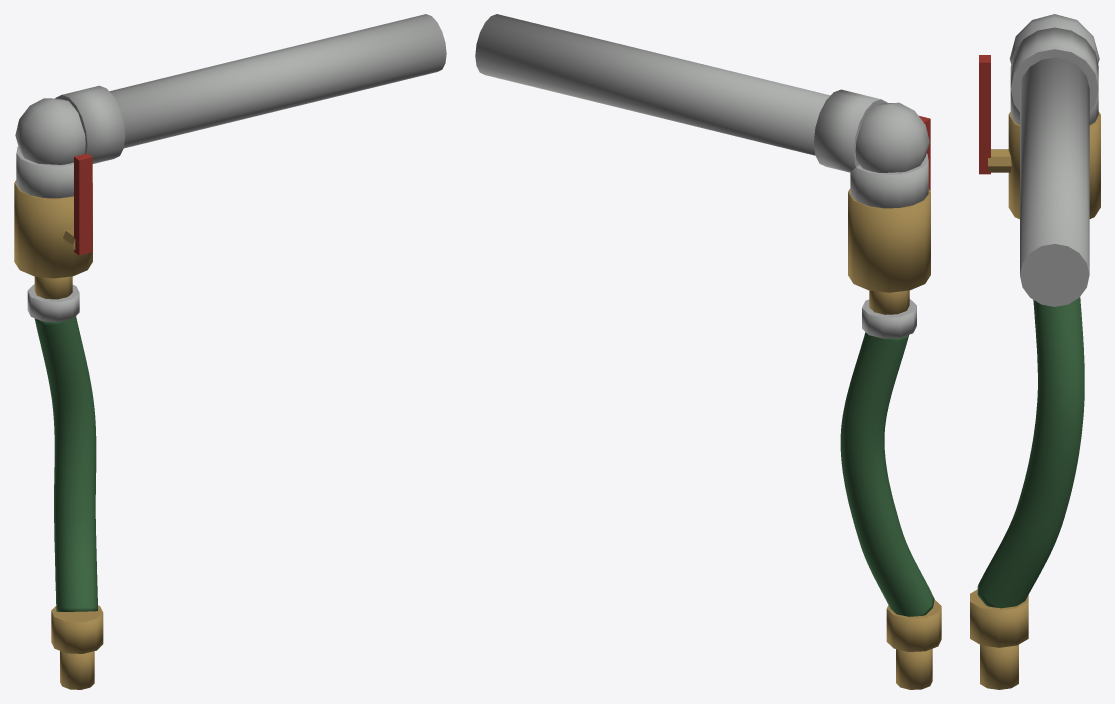
File: barrel_pump_bend1.obj
3 views of the same model, side by side, from view 1: azimuth 30°, elevation 25°; view 2: azimuth 150°, elevation 25°; view 3: azimuth 270°, elevation 25° (orthographic). The views are drawn at different scales.
Parts seen in each view (by area): view 1: pipe2, hose, valve_body, elbow_hub, elbow_socket2, spigot_nut, elbow_socket1, valve_lever, hose_collar, spigot, hose_barb; view 2: pipe2, hose, valve_body, elbow_hub, elbow_socket2, elbow_socket1, spigot_nut, hose_collar, spigot, hose_barb; view 3: pipe2, hose, elbow_socket2, spigot_nut, valve_body, spigot, valve_lever, elbow_hub, valve_stem, elbow_socket1.
Boxes of the visible parts, box(x1,y1,x2,y2) form: pipe2: box(109, 14, 446, 148); hose: box(34, 316, 97, 611); valve_body: box(14, 180, 92, 278); elbow_hub: box(15, 98, 85, 164); elbow_socket2: box(55, 85, 125, 163); spigot_nut: box(51, 605, 103, 653); elbow_socket1: box(16, 146, 73, 198); valve_lever: box(74, 153, 92, 255); hose_collar: box(27, 284, 79, 321); spigot: box(60, 651, 94, 689); hose_barb: box(34, 276, 72, 299); pipe2: box(475, 14, 830, 155); hose: box(840, 332, 934, 616); valve_body: box(848, 188, 930, 292); elbow_hub: box(855, 102, 929, 172); elbow_socket2: box(814, 89, 887, 172); elbow_socket1: box(850, 153, 928, 208); spigot_nut: box(886, 599, 941, 651); hose_collar: box(862, 299, 916, 338); spigot: box(896, 648, 932, 689); hose_barb: box(869, 290, 909, 314); pipe2: box(1020, 57, 1089, 306); hose: box(977, 297, 1084, 608); elbow_socket2: box(1010, 27, 1098, 111); spigot_nut: box(970, 589, 1028, 647); valve_body: box(1008, 111, 1100, 219); spigot: box(980, 644, 1018, 689); valve_lever: box(979, 55, 990, 174); elbow_hub: box(1009, 14, 1099, 64); valve_stem: box(988, 149, 1011, 172); elbow_socket1: box(1010, 90, 1098, 124).
Size of the model in its own units: 0.545 by 0.7139 by 0.1275.
4 materials, 4 textured.
